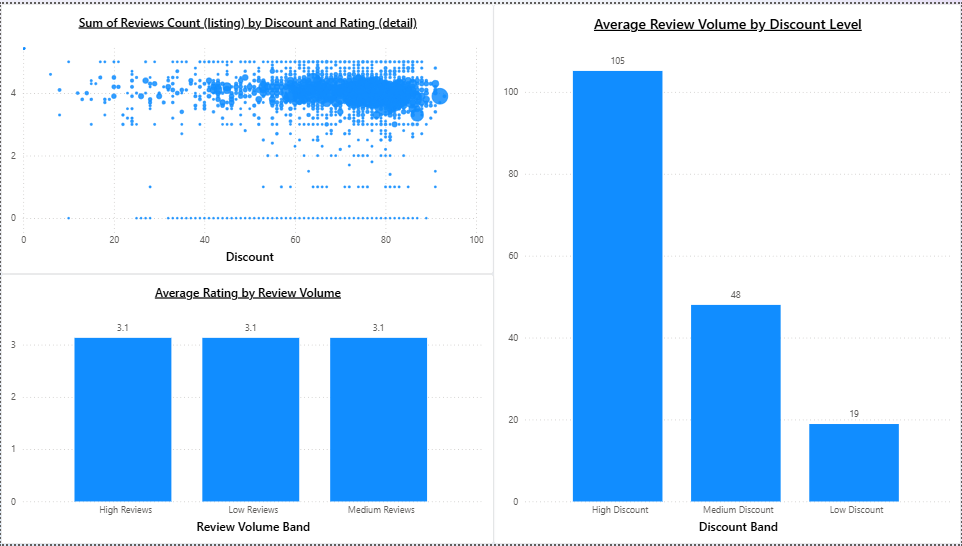

Layout of this report page (visuals, bound fields, positions):
{"tool":"powerbi","page":{"name":"Task 3","canvas":[1280,720],"ordinal":2},"visuals":[{"type":"scatterChart","fields":{"Y":["snapdeal_products.Rating (detail)"],"Size":["Sum(snapdeal_products.Reviews Count (listing))"],"X":["snapdeal_products.Discount"]},"box":[0,0,656.7,360],"z":0},{"type":"clusteredColumnChart","title":"Average Review Volume by Discount Level","fields":{"Category":["snapdeal_products.Discount Band"],"Y":["snapdeal_products.Average Reviews by Discount Band"]},"box":[656.7,0,623.3,720.1],"z":1000},{"type":"clusteredColumnChart","title":"Average Rating by Review Volume","fields":{"Category":["snapdeal_products.Review Volume Band"],"Y":["Avg(snapdeal_products.Average Rating Controlled)"]},"box":[0,360,656.7,360],"z":2000}]}

Visuals, with their boxes in screenshot pixels (x1, y1, x2, y2), scaled from the page's 1280x720 canvas onto the 962x546 screenshot:
scatterChart - snapdeal_products.Rating (detail) x Sum(snapdeal_products.Reviews Count (listing)): rect(0, 0, 494, 273)
"Average Review Volume by Discount Level" clusteredColumnChart: rect(494, 0, 961, 545)
"Average Rating by Review Volume" clusteredColumnChart: rect(0, 273, 494, 545)
